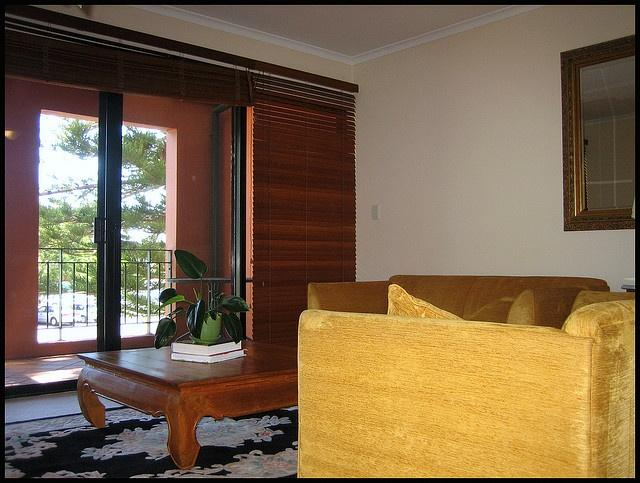Meja: (72, 338, 297, 469)
